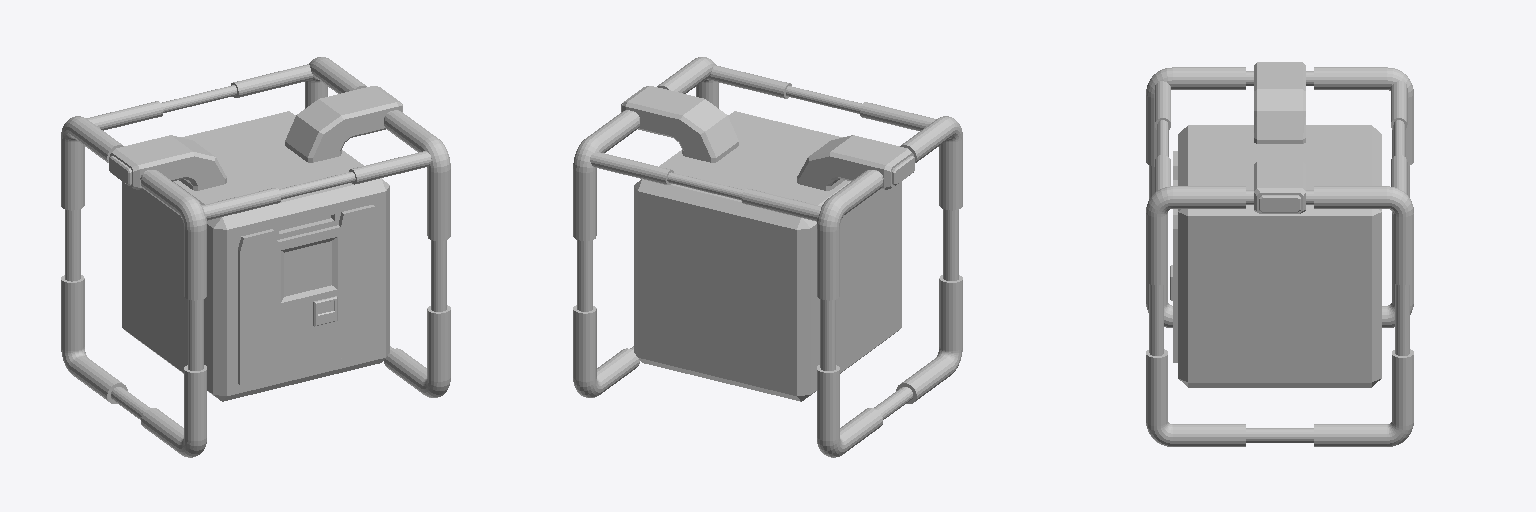
The model's file is ChemBox.obj.
The picture shows the model from 3 angles: view 1: azimuth 30°, elevation 25°; view 2: azimuth 150°, elevation 25°; view 3: azimuth 270°, elevation 25°; orthographic projection.
Visible parts, largest first — view 1: Cube.032_Cube.045; view 2: Cube.032_Cube.045; view 3: Cube.032_Cube.045.
Part boxes in pixels (x1,y1,x2,y2): Cube.032_Cube.045: (61, 57, 450, 457); Cube.032_Cube.045: (573, 57, 962, 457); Cube.032_Cube.045: (1146, 62, 1413, 446).
Bounding box in the file's own units: 1.87 × 1.7 × 1.58.